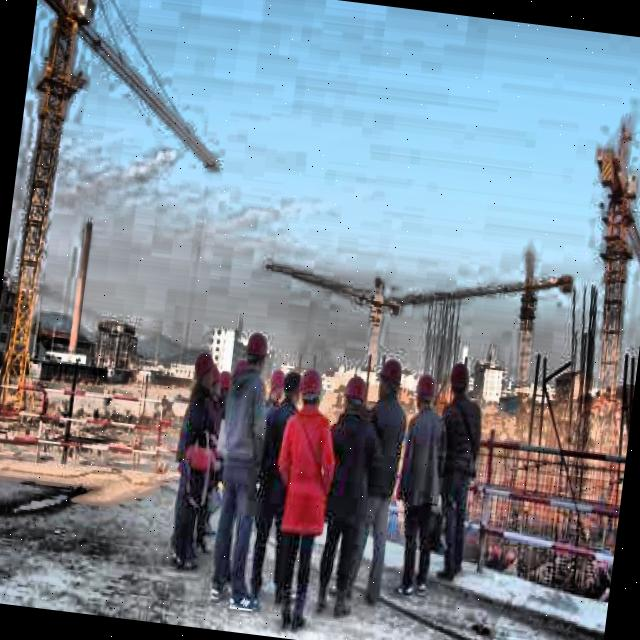helmet: (294, 365, 326, 407), (341, 372, 370, 413), (412, 370, 441, 410), (375, 359, 404, 398), (242, 332, 270, 372), (190, 350, 216, 385), (447, 362, 472, 396), (266, 364, 288, 402), (216, 364, 234, 398)
